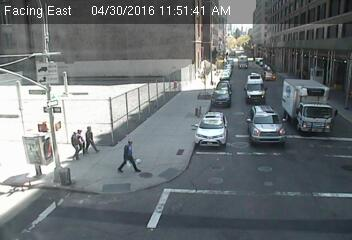neg: (241, 171, 274, 215), (190, 164, 217, 200), (176, 92, 201, 124), (134, 91, 156, 120), (258, 107, 277, 132), (124, 36, 143, 61), (218, 110, 235, 133), (152, 191, 168, 212), (81, 80, 96, 100), (69, 177, 84, 197), (32, 142, 46, 161), (302, 79, 315, 96), (100, 189, 112, 205), (39, 87, 50, 101), (239, 51, 248, 63)
pos: (113, 137, 140, 173), (77, 120, 101, 152), (62, 128, 85, 159), (69, 125, 89, 152)
